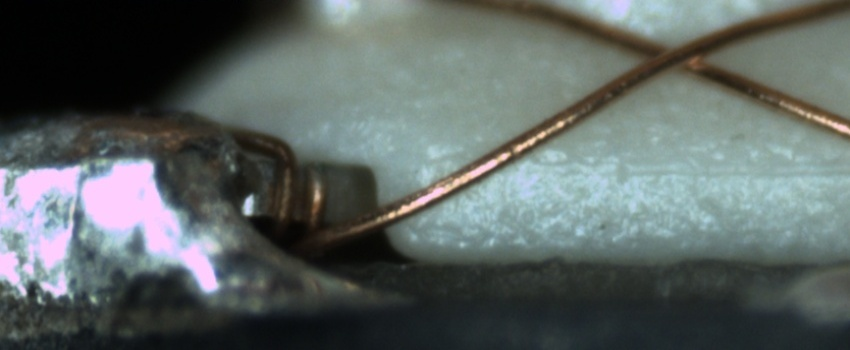CL: (625, 27, 724, 83)
DL: (516, 132, 850, 191)
TE: (229, 120, 339, 240)
